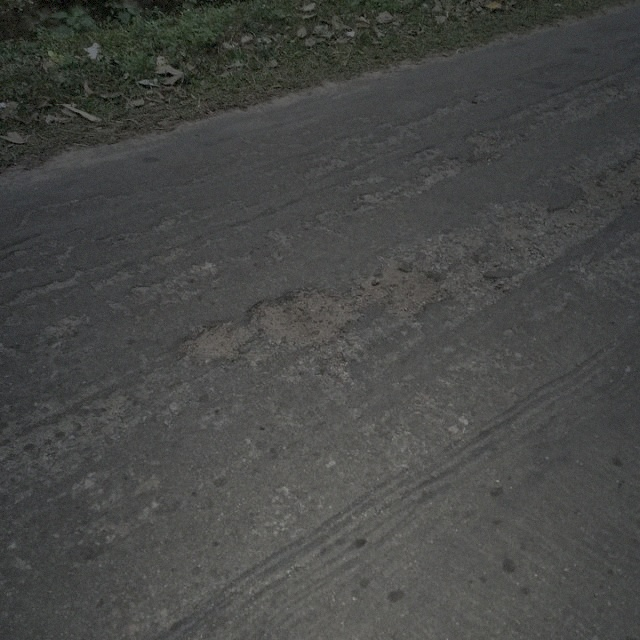pothole: (242, 282, 360, 348), (353, 260, 444, 319), (179, 318, 255, 358), (590, 146, 639, 202)
